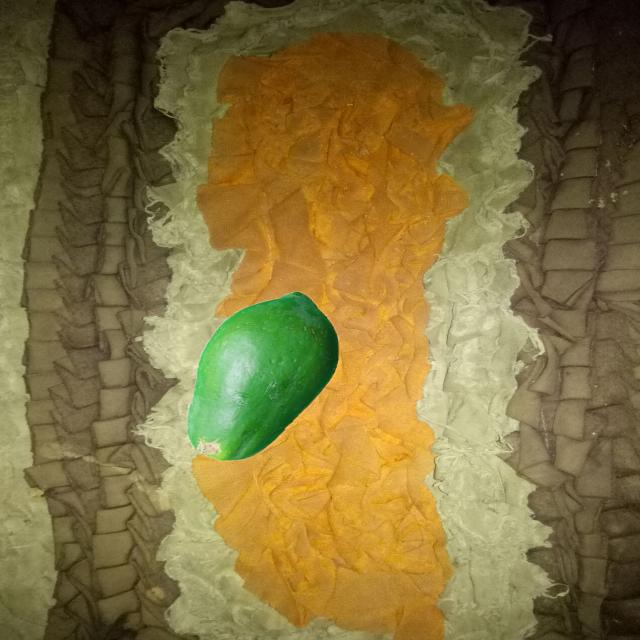Pepaya unrippen: (183, 290, 345, 468)
